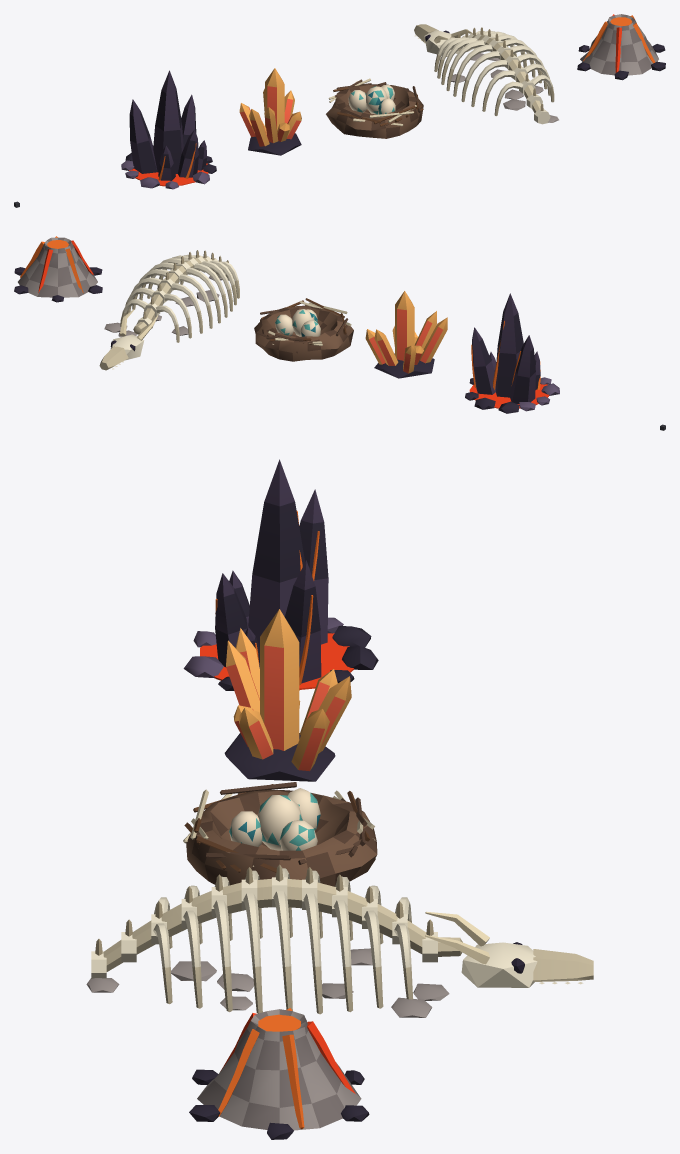
File: DragonMarino.fbx
3 views of the same model, one above another, from view 1: azimuth 30°, elevation 25°; view 2: azimuth 150°, elevation 25°; view 3: azimuth 270°, elevation 25° (orthographic). The views are drawn at different scales.
Parts seen in each view (by area): view 1: Costillar, Obsidiana, Nido, Fumarola, CristalLava_Brillo, Fumarola_Brillo, CristalLava, Obsidiana_Brillo; view 2: Costillar, Obsidiana, Nido, CristalLava_Brillo, Fumarola, Fumarola_Brillo, Obsidiana_Brillo, CristalLava; view 3: Costillar, Obsidiana, Nido, Fumarola, CristalLava_Brillo, Fumarola_Brillo, CristalLava, Obsidiana_Brillo.
Part boxes in pixels (bbox=[...]): Costillar: bbox=[414, 24, 558, 124]; Obsidiana: bbox=[121, 70, 216, 189]; Nido: bbox=[326, 78, 423, 138]; Fumarola: bbox=[577, 14, 665, 80]; CristalLava_Brillo: bbox=[239, 68, 301, 146]; Fumarola_Brillo: bbox=[583, 14, 655, 72]; CristalLava: bbox=[248, 133, 301, 155]; Obsidiana_Brillo: bbox=[129, 143, 208, 186]; Costillar: bbox=[99, 250, 239, 370]; Obsidiana: bbox=[465, 293, 559, 413]; Nido: bbox=[254, 298, 353, 361]; CristalLava_Brillo: bbox=[365, 291, 447, 373]; Fumarola: bbox=[14, 237, 102, 302]; Fumarola_Brillo: bbox=[20, 236, 93, 293]; Obsidiana_Brillo: bbox=[469, 321, 549, 408]; CristalLava: bbox=[374, 353, 434, 378]; Costillar: bbox=[86, 864, 593, 1017]; Obsidiana: bbox=[183, 459, 378, 690]; Nido: bbox=[183, 782, 377, 886]; Fumarola: bbox=[189, 1009, 369, 1139]; CristalLava_Brillo: bbox=[226, 609, 351, 771]; Fumarola_Brillo: bbox=[218, 1008, 355, 1128]; CristalLava: bbox=[224, 733, 335, 781]; Obsidiana_Brillo: bbox=[200, 511, 354, 690].
Bounding box in the file's own units: 174 × 26.58 × 58.95.
